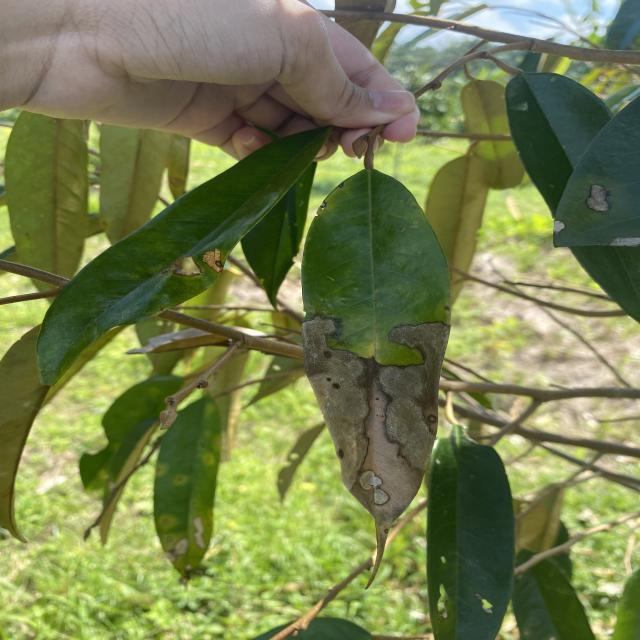Leaf Blight: (300, 300, 466, 583)
